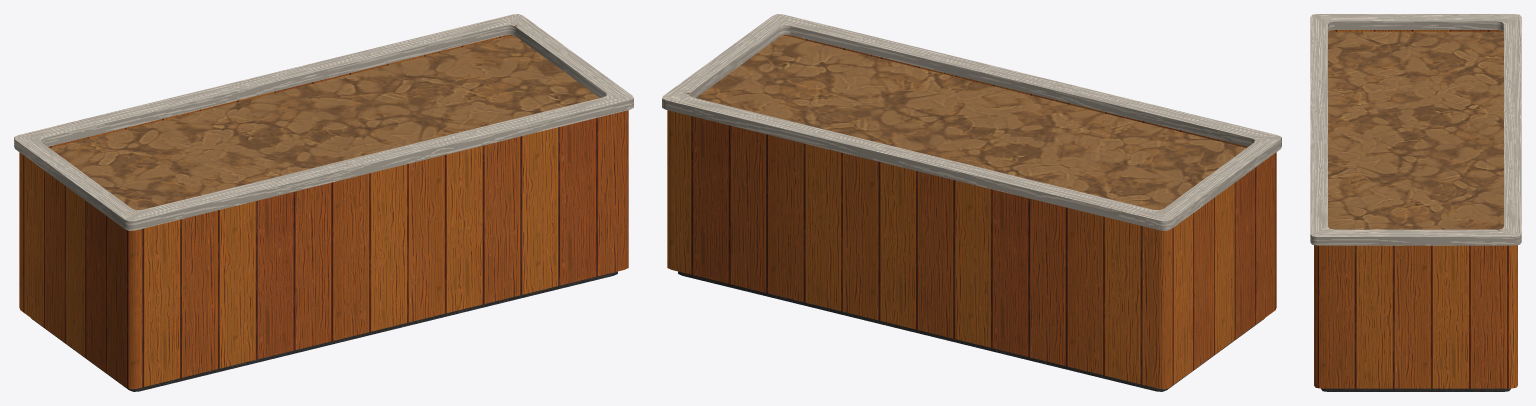
The model's file is StreetPlanter05_2.FBX.
The picture shows the model from 3 angles, left to right: view 1: azimuth 30°, elevation 25°; view 2: azimuth 150°, elevation 25°; view 3: azimuth 270°, elevation 25°; orthographic projection. The views are drawn at different scales.
Parts seen in each view (by area): view 1: StreetPlanter05_2; view 2: StreetPlanter05_2; view 3: StreetPlanter05_2.
Boxes of the visible parts, left/top/right/bottom form: StreetPlanter05_2: left=14, top=14, right=633, bottom=391; StreetPlanter05_2: left=662, top=14, right=1281, bottom=391; StreetPlanter05_2: left=1310, top=14, right=1521, bottom=391.
Size of what is drawn, in the model's own units: 1.8 by 0.6 by 0.72.
